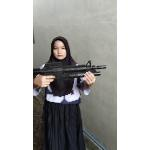Senapan: (34, 60, 110, 90)
